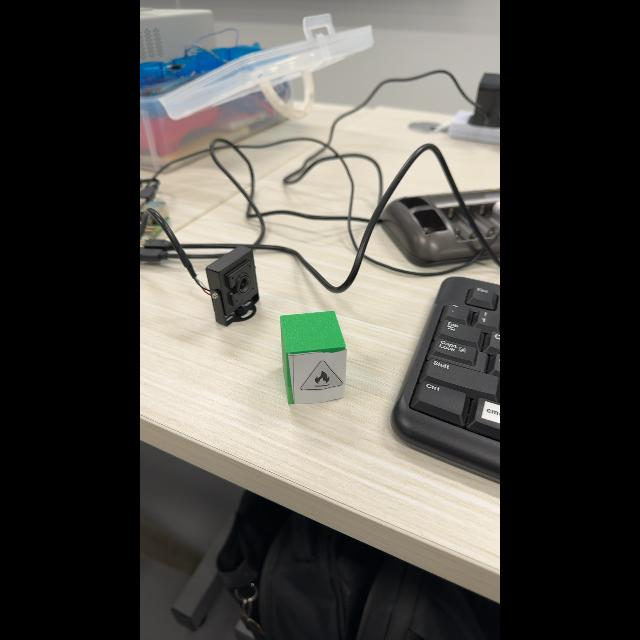Fire: (300, 360, 343, 392)
